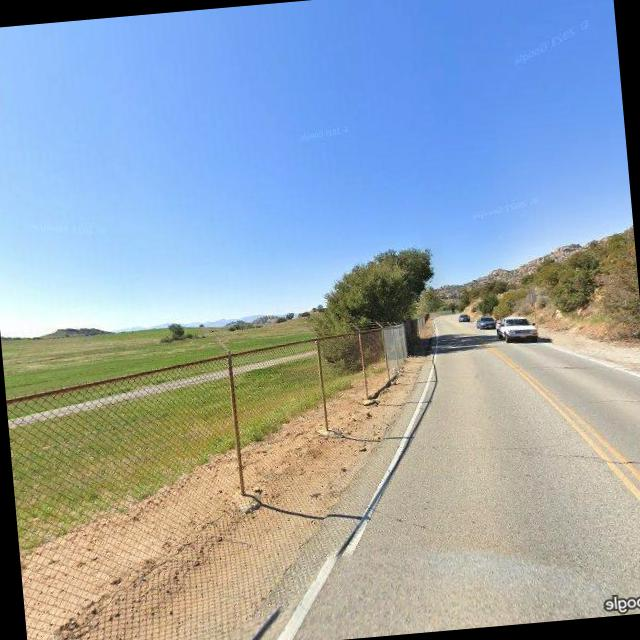crack: (510, 432, 640, 487)
